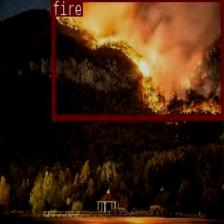fire: (51, 0, 224, 119)
